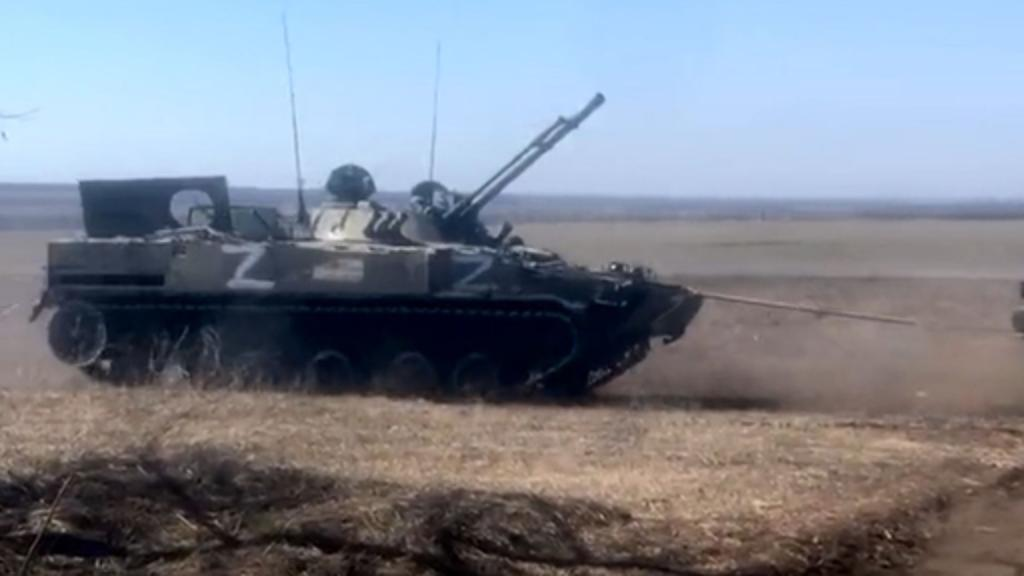APC-IFV: (40, 70, 704, 414)
